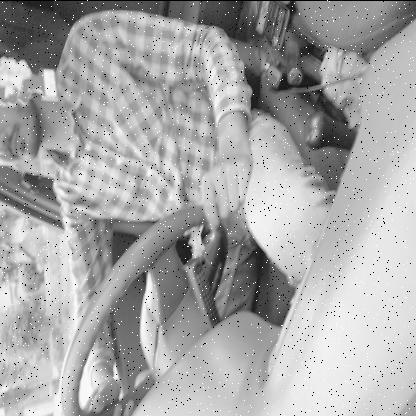no_seatbelt: (0, 83, 172, 227)
